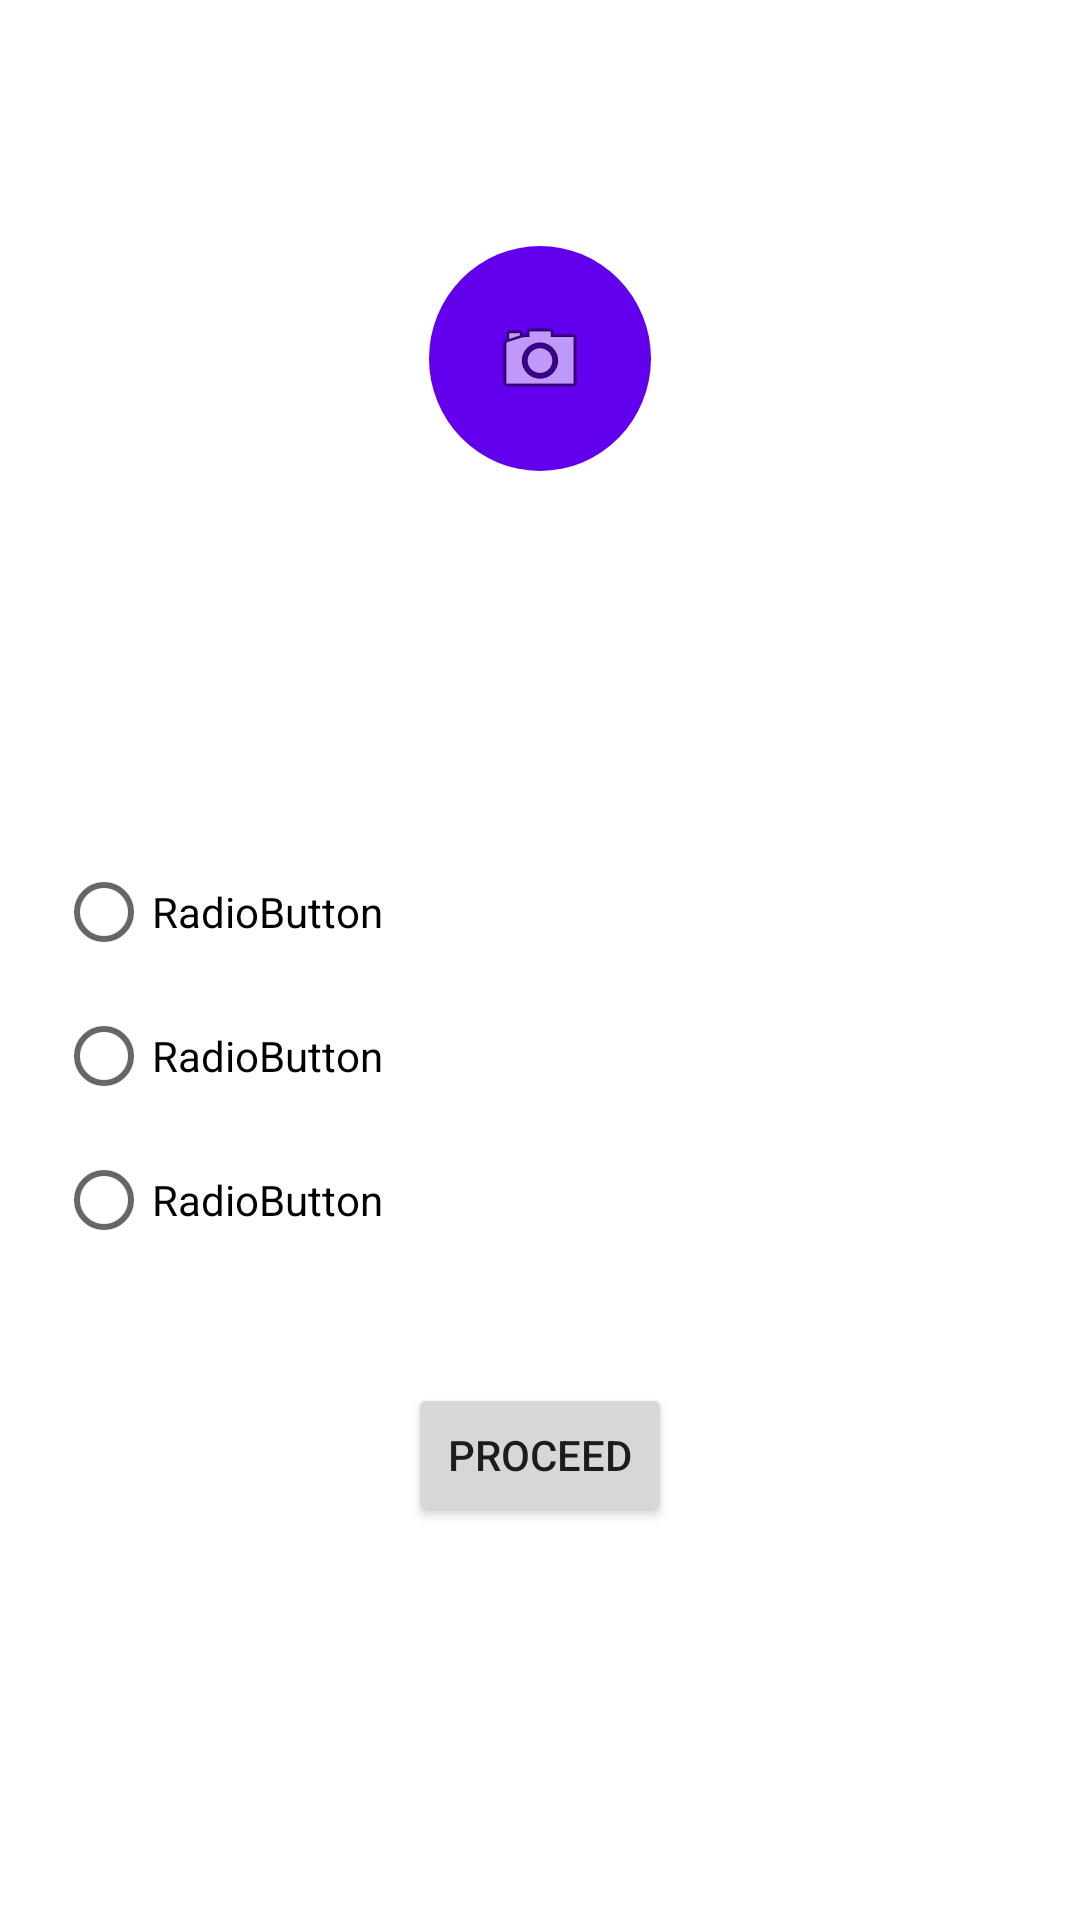

Icons on this 1080w x 1920h Android screen, each with its box as (x1, y1, x2, y2):
Select a picture: (429, 246, 651, 471)
